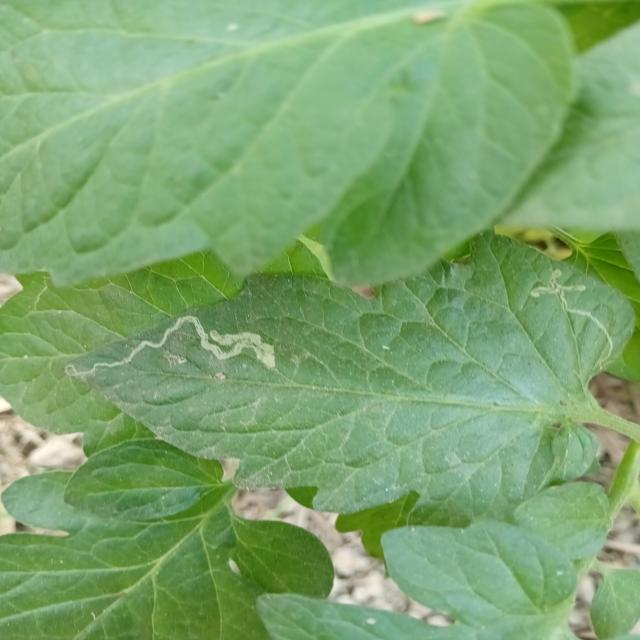Tuta absoluta: (74, 313, 275, 376), (529, 263, 600, 320), (593, 318, 611, 337), (607, 336, 614, 354)
